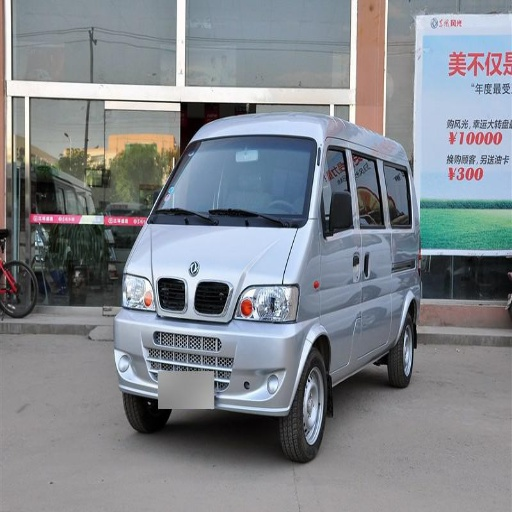front_bumper: (120, 272, 308, 410)
front_glass: (150, 136, 316, 226)
front_left_door: (320, 142, 376, 372)
front_right_light: (123, 271, 154, 309)
